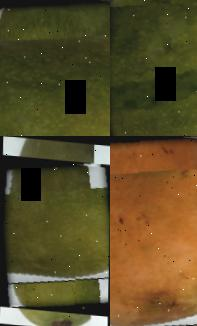Ripe: (110, 136, 197, 326)
Unripe: (0, 157, 110, 314), (0, 0, 110, 136), (110, 0, 197, 136)
